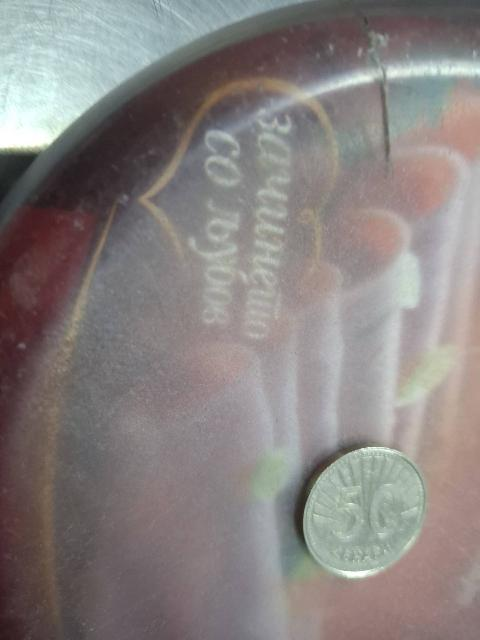50_coin: (298, 444, 431, 574)
